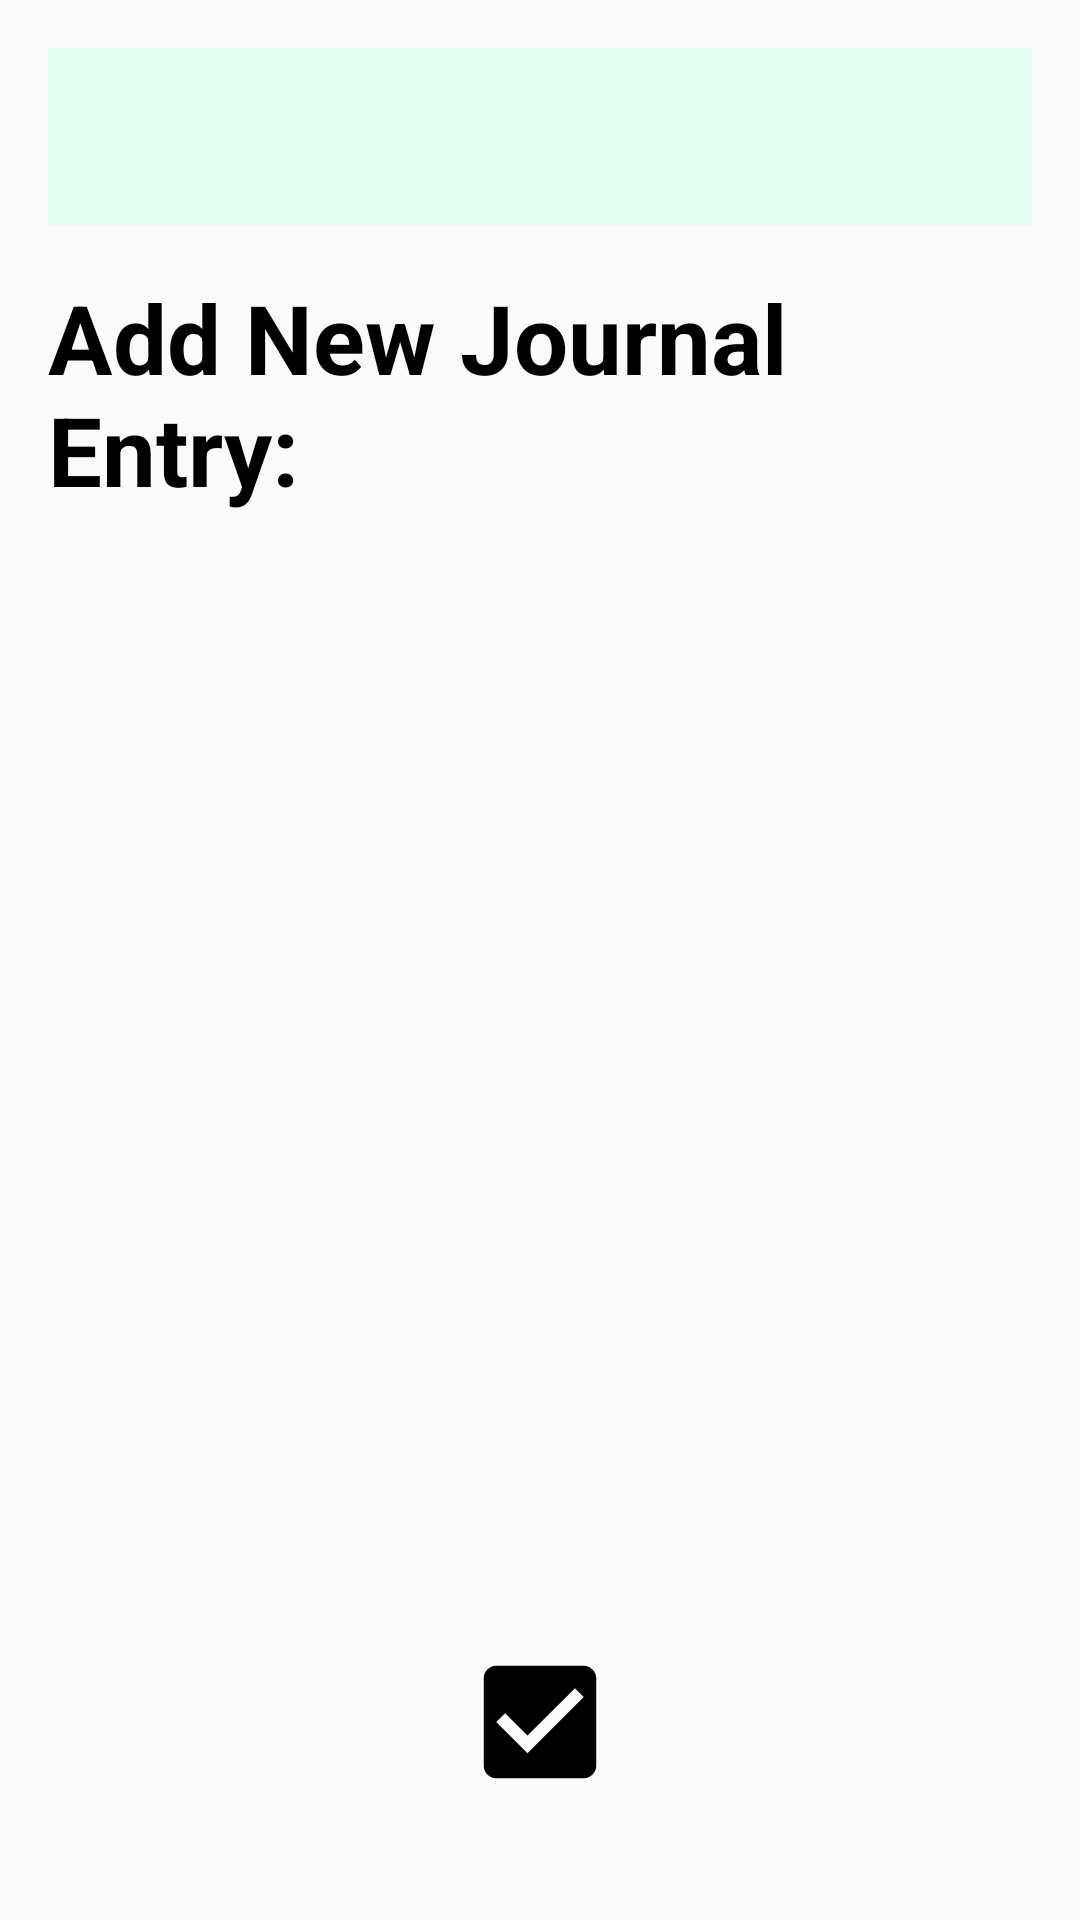

Screen size 1080×1920. Icon name, then its box in pixels as bbox=[x1, y1, x2, y2]:
check box: bbox=[483, 1665, 597, 1779]
